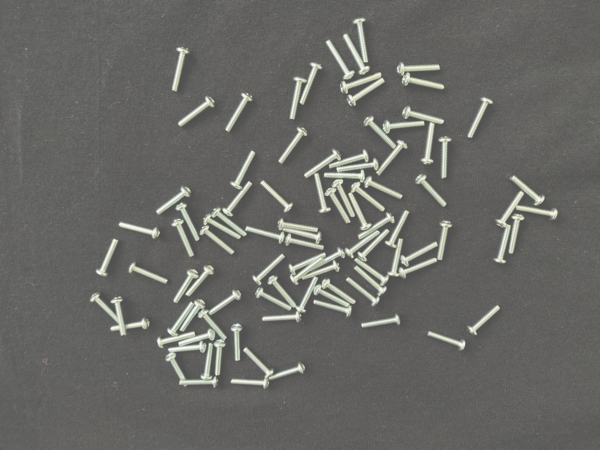longscrew: (172, 95, 216, 128), (222, 93, 254, 133), (223, 177, 255, 217), (343, 35, 372, 77), (324, 39, 353, 81), (226, 149, 257, 188), (277, 128, 308, 167), (467, 305, 506, 335), (416, 176, 453, 207), (397, 241, 441, 267), (340, 67, 384, 93), (301, 249, 345, 275), (425, 331, 469, 356), (117, 217, 161, 242), (127, 261, 171, 286), (398, 56, 442, 81), (343, 81, 387, 106), (178, 299, 208, 335), (387, 208, 412, 251), (399, 259, 442, 284), (403, 71, 446, 96), (164, 301, 194, 336), (380, 139, 408, 176), (512, 174, 544, 206), (365, 117, 395, 151), (289, 248, 324, 277), (158, 186, 193, 215), (183, 267, 218, 296), (353, 258, 389, 286), (258, 183, 294, 211), (289, 258, 325, 286), (349, 194, 376, 231), (252, 254, 285, 284), (199, 227, 237, 253), (345, 278, 380, 306), (352, 267, 387, 295), (305, 151, 340, 179), (468, 97, 491, 139), (199, 311, 230, 341), (352, 185, 389, 210), (175, 203, 200, 240), (175, 269, 202, 303), (293, 277, 318, 313), (204, 215, 241, 239), (212, 209, 247, 234), (211, 289, 242, 317), (327, 148, 370, 168), (334, 180, 357, 217), (360, 311, 402, 331), (403, 104, 445, 124), (383, 117, 425, 137), (435, 220, 454, 264), (437, 138, 456, 182), (355, 19, 374, 63), (98, 236, 117, 280), (365, 178, 409, 197), (329, 189, 352, 225), (346, 231, 379, 256), (419, 124, 438, 167), (312, 284, 349, 306), (361, 231, 389, 260), (361, 213, 393, 238), (493, 223, 511, 267), (508, 214, 526, 258), (170, 48, 188, 92), (226, 319, 244, 363), (211, 338, 229, 382), (173, 221, 195, 257), (270, 278, 298, 306), (322, 281, 356, 304), (302, 62, 320, 105), (288, 77, 306, 120), (111, 295, 129, 338), (386, 240, 406, 278), (302, 262, 339, 281), (256, 291, 292, 309), (280, 227, 322, 242), (264, 365, 306, 380), (154, 334, 196, 349), (166, 342, 208, 357), (325, 168, 367, 183), (311, 302, 353, 317), (314, 175, 330, 213), (278, 219, 320, 233), (243, 228, 285, 242), (285, 236, 327, 250), (261, 311, 303, 325), (109, 320, 151, 334), (176, 332, 218, 346), (338, 161, 379, 175), (202, 341, 215, 383)
